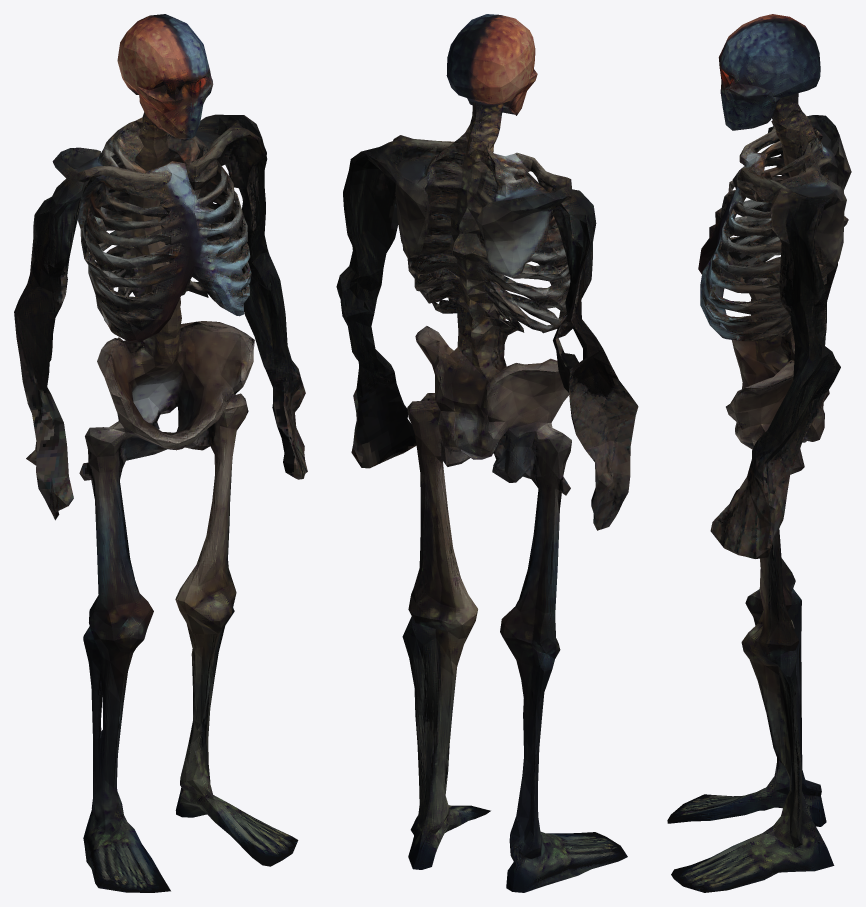
Rendered from sample.glb.
3 renders of one model, left to right at view 1: azimuth 30°, elevation 25°; view 2: azimuth 150°, elevation 25°; view 3: azimuth 270°, elevation 25°, orthographic. The views are drawn at different scales.
Visible parts, largest first — view 1: world; view 2: world; view 3: world.
Part boxes in pixels (box(x1,y1,x2,y2)): world: box(14, 14, 307, 892); world: box(336, 14, 638, 892); world: box(667, 14, 851, 892).
Bounding box in the file's own units: 0.3527 × 0.999 × 0.2015.
Materials: 1 (1 with a texture image).
